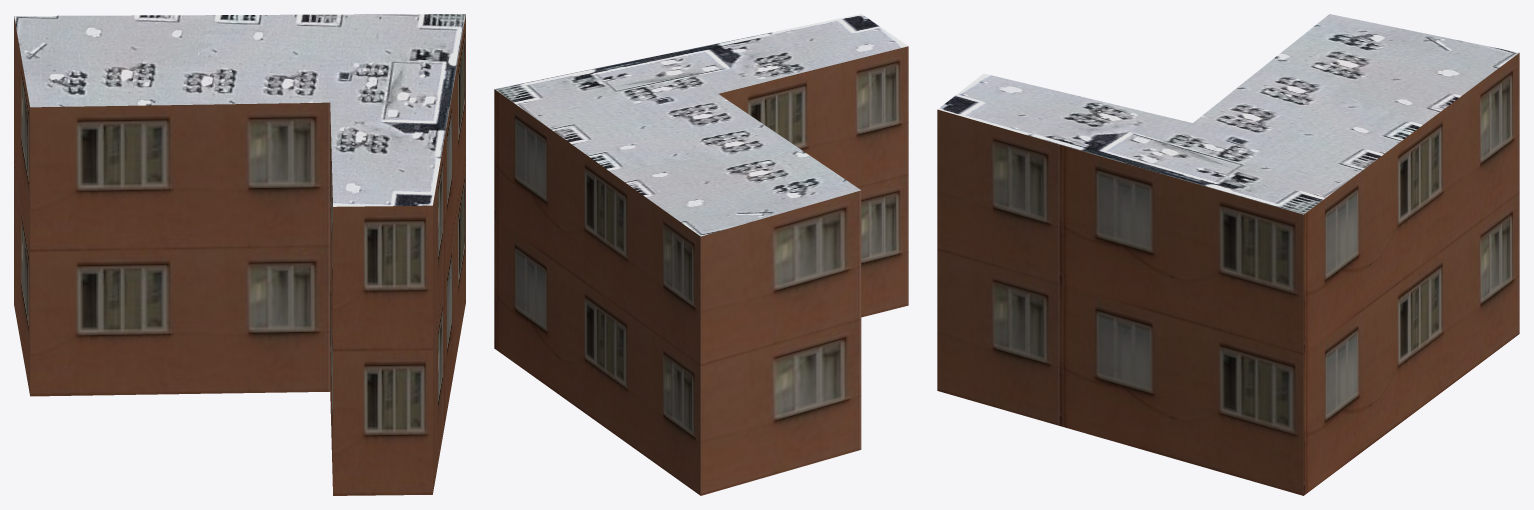
The model's file is ResTex__4010.fbx.
3 views of the same model, side by side, from view 1: azimuth 30°, elevation 25°; view 2: azimuth 150°, elevation 25°; view 3: azimuth 270°, elevation 25° (orthographic). The views are drawn at different scales.
Parts seen in each view (by area): view 1: CityEngineMaterial_20_m, CityEngineMaterial_8_m; view 2: CityEngineMaterial_20_m, CityEngineMaterial_8_m; view 3: CityEngineMaterial_20_m, CityEngineMaterial_8_m.
Boxes of the visible parts, x1,y1,x2,y2 form: CityEngineMaterial_20_m: (14, 14, 465, 495); CityEngineMaterial_8_m: (14, 14, 465, 206); CityEngineMaterial_20_m: (494, 46, 908, 495); CityEngineMaterial_8_m: (494, 14, 907, 236); CityEngineMaterial_20_m: (937, 53, 1519, 495); CityEngineMaterial_8_m: (938, 14, 1518, 214).
Bounding box in the file's own units: 9.17 × 6 × 11.25.
2 materials, 2 textured.
